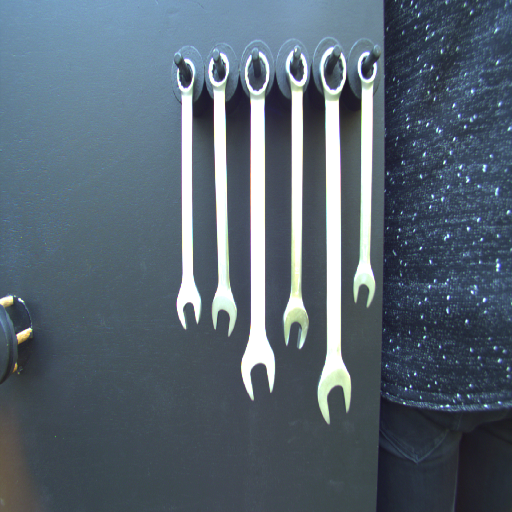bottom: (315, 362, 353, 427), (240, 338, 277, 402), (174, 278, 203, 331), (281, 297, 308, 352), (210, 287, 237, 339), (351, 264, 375, 309)
top: (318, 45, 347, 102), (243, 49, 271, 101), (283, 47, 310, 96), (207, 51, 231, 94), (174, 56, 199, 97), (356, 48, 377, 91)
